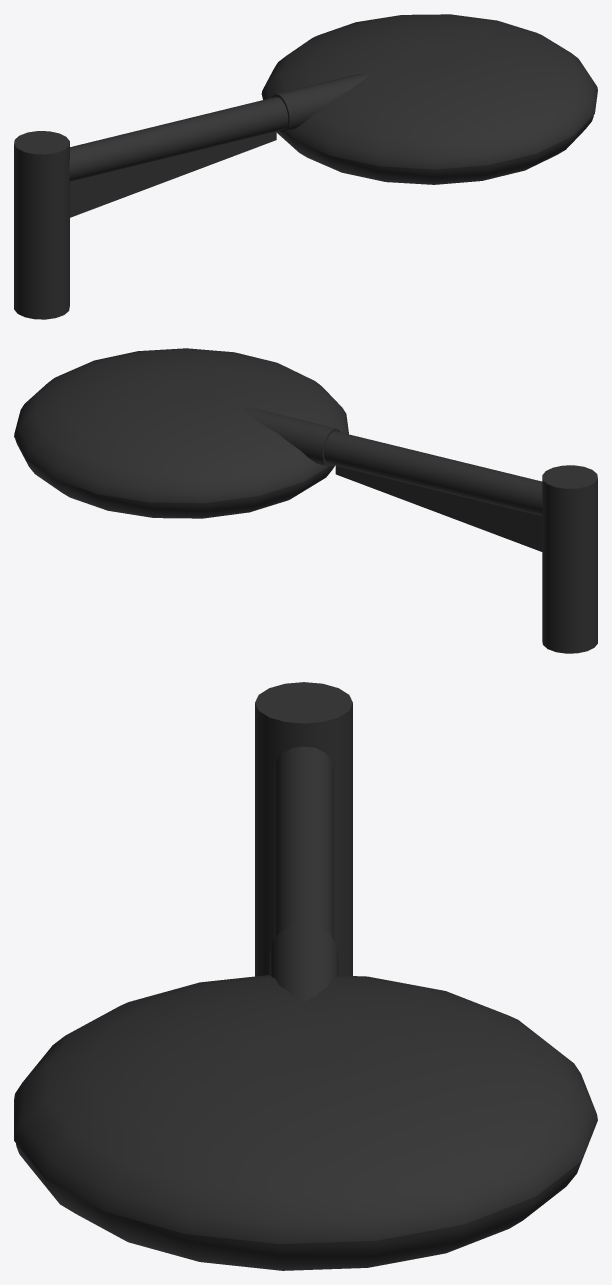
Rendered from Discera_600.glb.
The picture shows the model from 3 angles, top to bottom: view 1: azimuth 30°, elevation 25°; view 2: azimuth 150°, elevation 25°; view 3: azimuth 270°, elevation 25°; orthographic projection. The views are drawn at different scales.
Parts seen in each view (by area): view 1: Discera 600, Cylinder.001, Cylinder.002, Cube, Cylinder.003; view 2: Discera 600, Cylinder.001, Cylinder.002, Cube, Cylinder.003; view 3: Discera 600, Cylinder.001, Cylinder.002, Cylinder.003.
Part boxes in pixels (x1,y1,x2,y2): Discera 600: (261,14,597,184); Cylinder.001: (14,131,69,319); Cylinder.002: (69,97,288,181); Cube: (70,131,276,217); Cylinder.003: (272,73,371,132); Discera 600: (14,348,348,518); Cylinder.001: (542,465,597,653); Cylinder.002: (324,431,542,515); Cube: (335,466,542,551); Cylinder.003: (240,407,340,466); Discera 600: (14,975,597,1270); Cylinder.001: (255,682,352,976); Cylinder.002: (274,746,333,939); Cylinder.003: (269,924,338,1001).
Size of the model in its own units: 1.14 by 0.3231 by 0.595.
2 materials, 2 textured.
